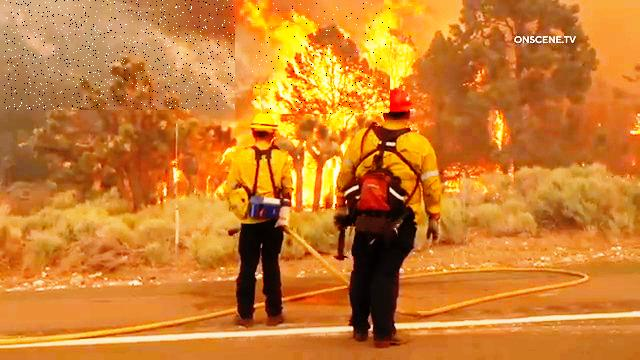fire: (252, 1, 390, 114)
smoke: (4, 0, 235, 110)
